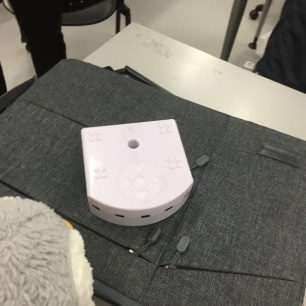thymio: (72, 112, 197, 226)
